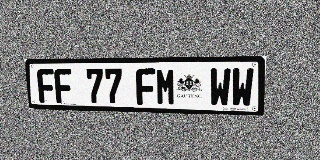7: (85, 68, 105, 104), (103, 68, 123, 104)
F: (136, 68, 156, 105), (36, 69, 56, 103), (54, 69, 73, 103)
M: (156, 68, 176, 106)
W: (231, 68, 254, 107), (209, 68, 231, 107)
